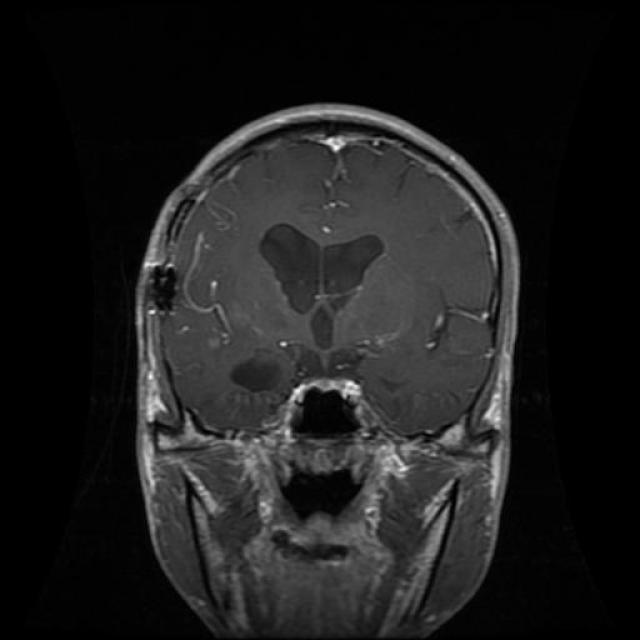glioma: (262, 222, 383, 346)
